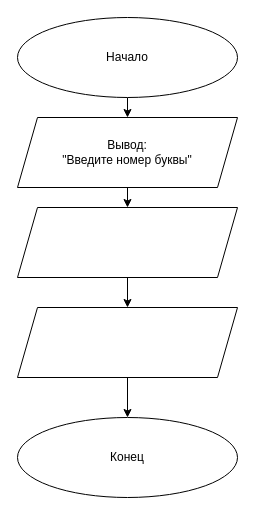
Some shapes in this 255 by 515 pixel diagram are drawn without their labels. The shapes that lost their labels are listed below. From the top down, each one's centre as x and y in pixels, then its label:
the point at 127,242: Ввод: a
the point at 127,342: Вывод: "Введен символ " = chr(a+96)
